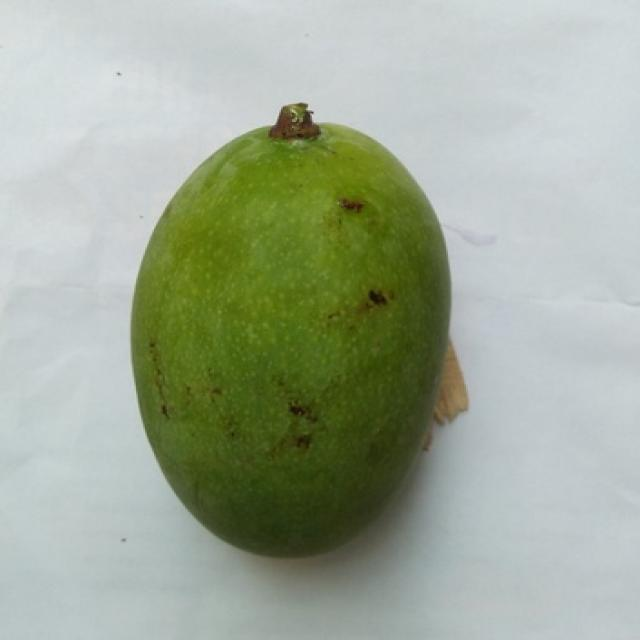Mango: (132, 125, 450, 555)
